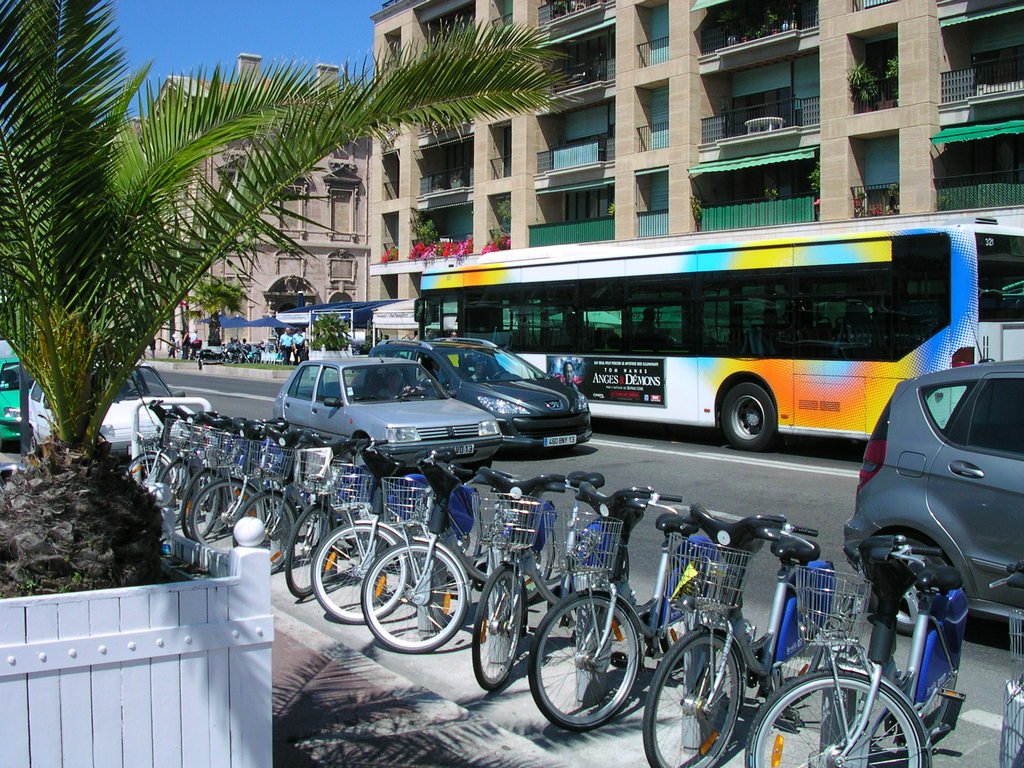Bus: (407, 222, 1022, 453)
